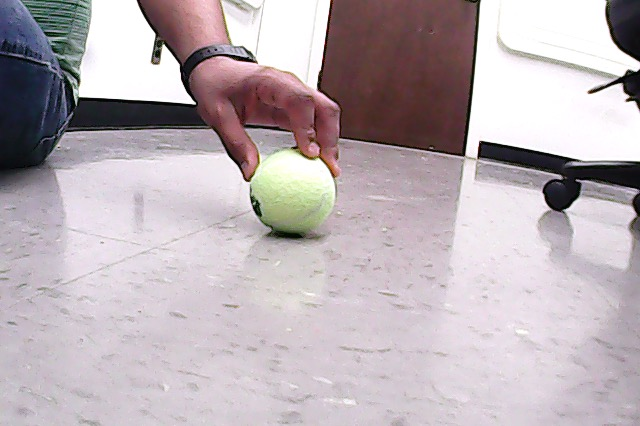ball: (249, 144, 338, 237)
